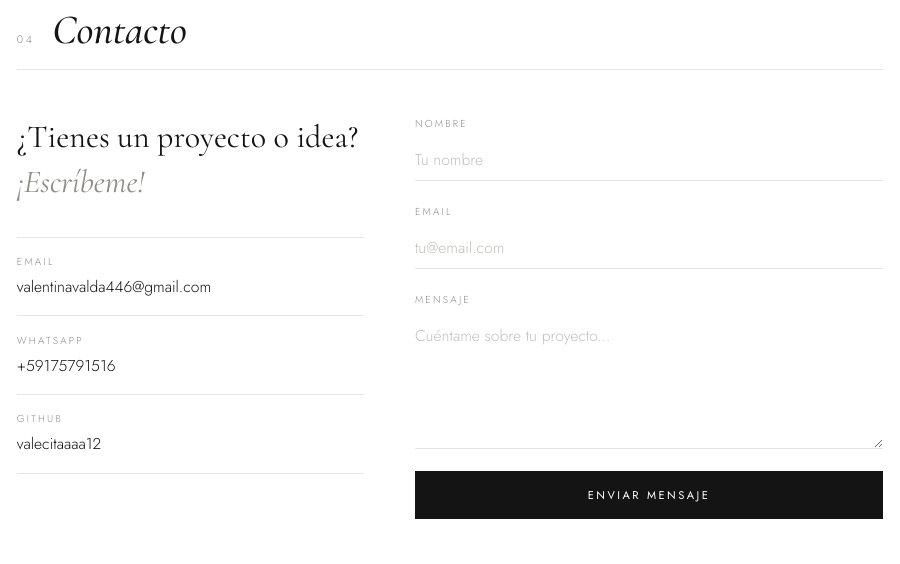
it: Contact › valida el formato del email
In the field with placeholder "Tu nombre": (649, 160) top-left (415, 139), bottom-right (883, 181), type "Natalia Valda"
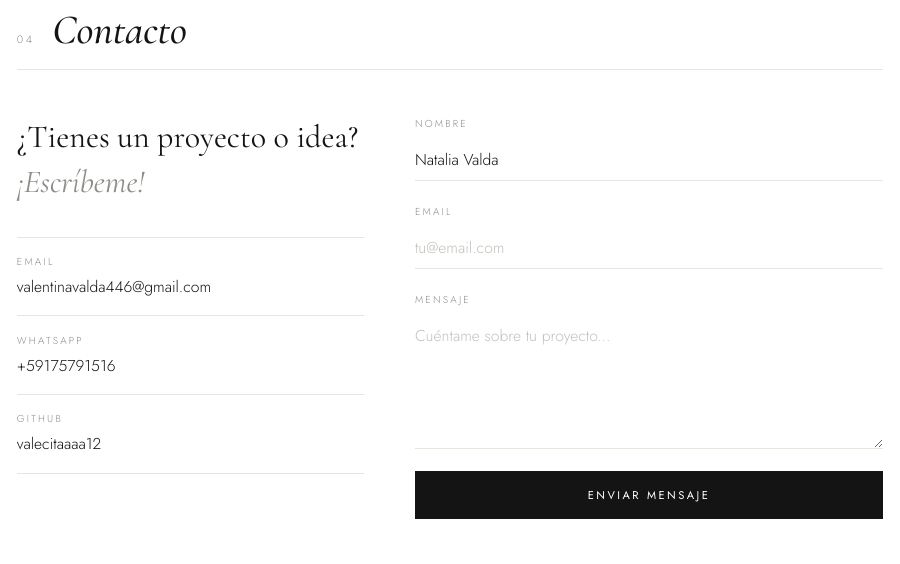
In the field with placeholder "tu@email.com": (649, 248) top-left (415, 227), bottom-right (883, 269), type "no-es-un-correo"
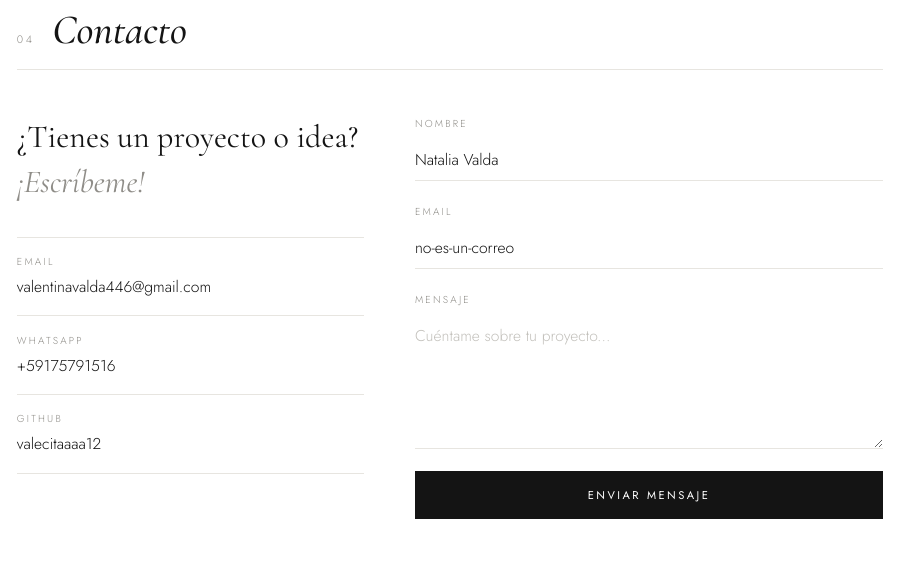
In the text box with placeholder "Cuéntame sobre tu proyecto...": (649, 382) top-left (415, 315), bottom-right (883, 449), type "Este es un mensaje de prueba suficientemente largo."
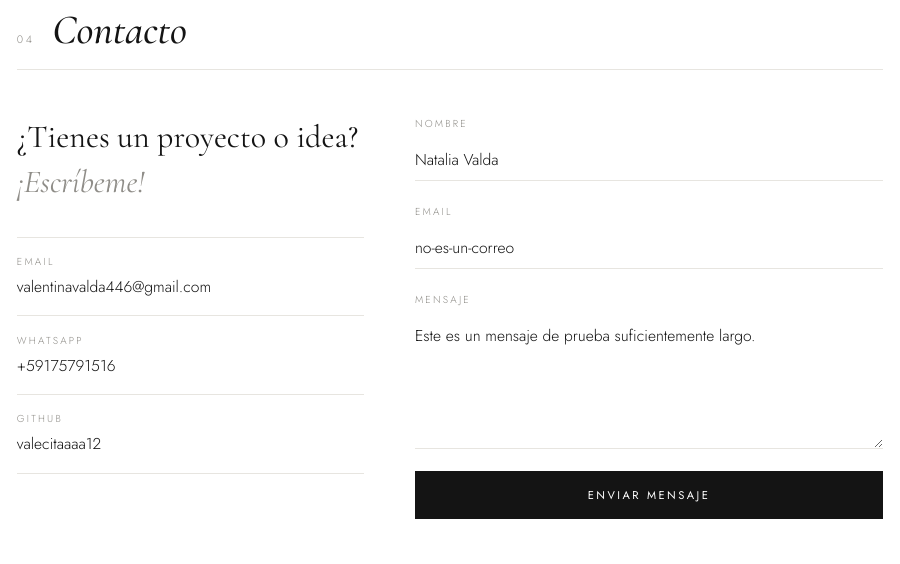
Click the button "Enviar mensaje": (649, 495) top-left (415, 471), bottom-right (883, 519)
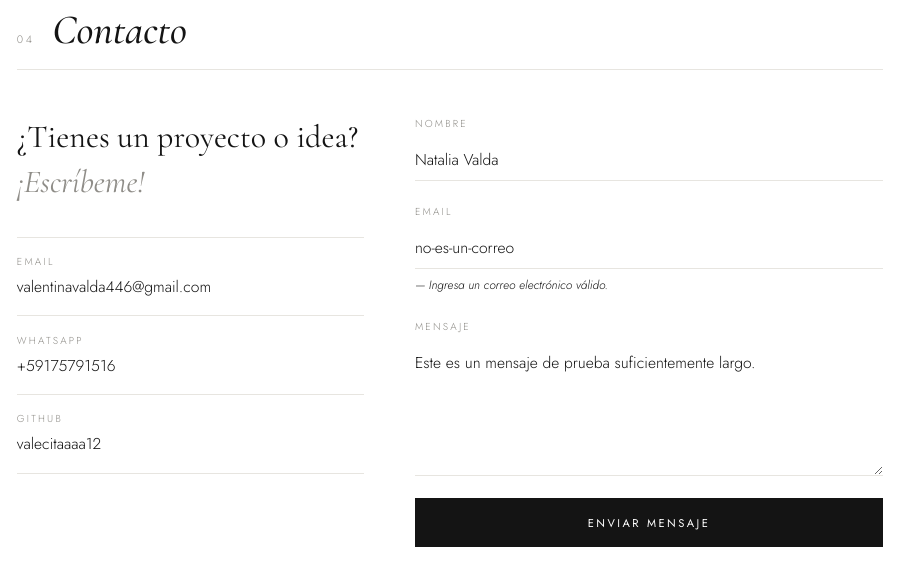
expect the text "Ingresa un correo electrónico válido." is shown: met, box top-left (429, 276), bottom-right (608, 294)
